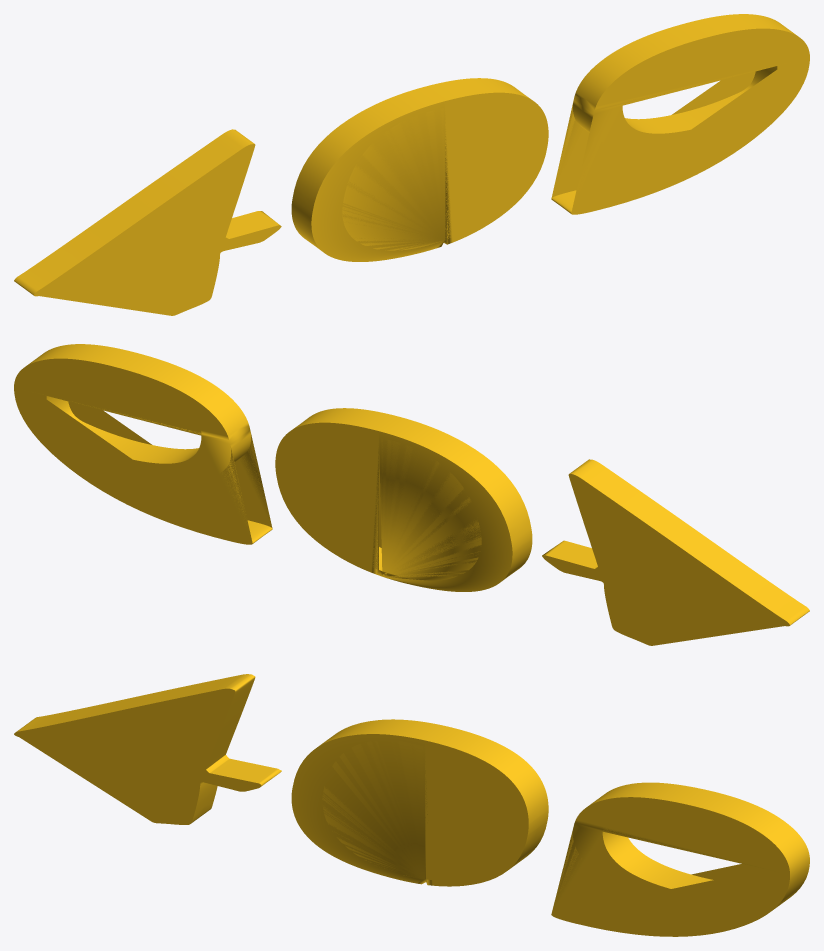
The picture shows the model from 3 angles, top to bottom: view 1: azimuth 30°, elevation 25°; view 2: azimuth 150°, elevation 25°; view 3: azimuth 330°, elevation 25°; orthographic projection.
Visible parts, largest first — view 1: T_409; view 2: T_409; view 3: T_409.
Part boxes in pixels (left/top/right/bottom): T_409: left=14, top=14, right=809, bottom=315; T_409: left=14, top=344, right=809, bottom=645; T_409: left=14, top=674, right=809, bottom=936.
Size of the model in its own units: 20.56 by 3.86 by 0.9122.
